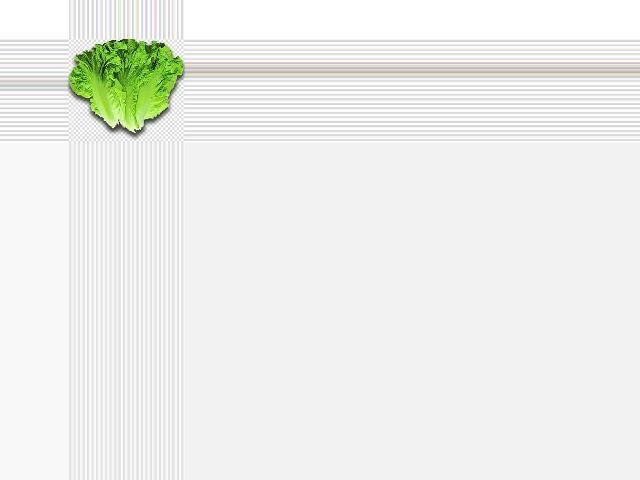lettuce: (66, 39, 181, 135)
